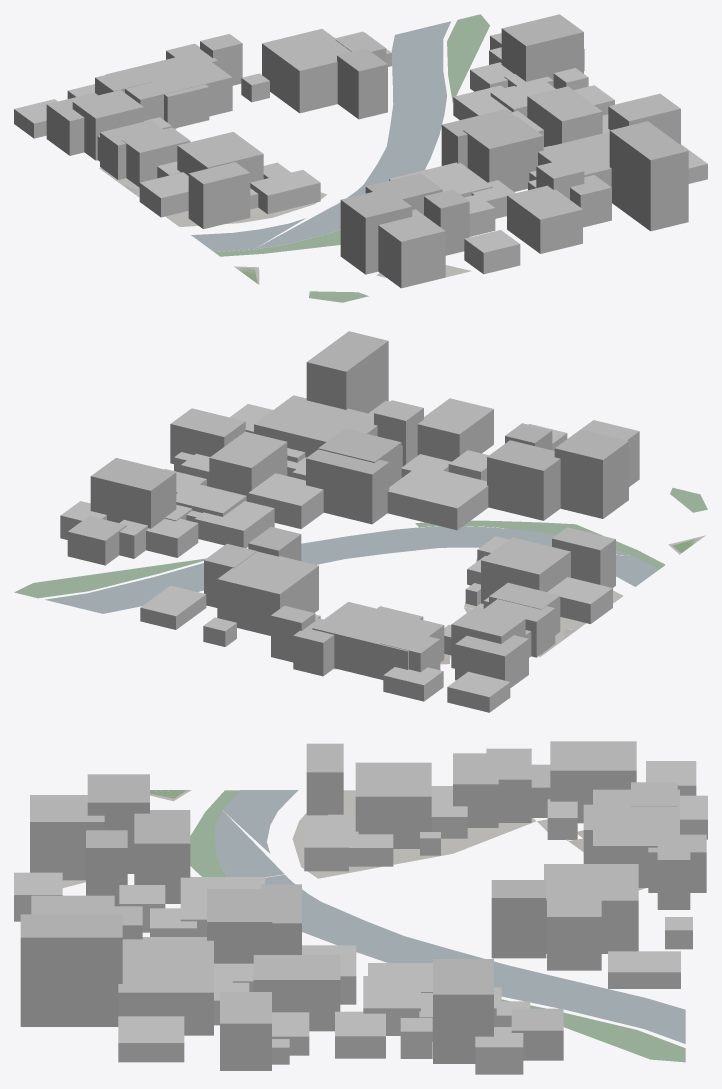
Rendered from 117_99_mid.glb.
3 views of the same model, one above another, from view 1: azimuth 30°, elevation 25°; view 2: azimuth 150°, elevation 25°; view 3: azimuth 270°, elevation 25° (orthographic). The views are drawn at different scales.
Size of the model in its own units: 532 by 75.58 by 529.
